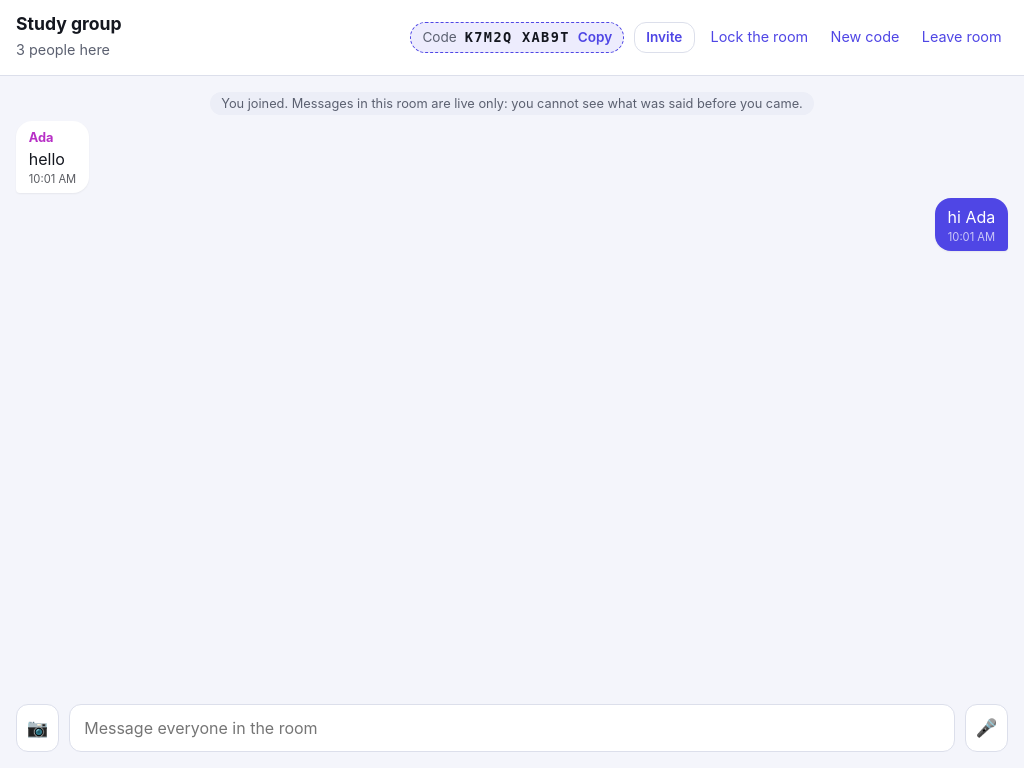
Test: ChatPanel › prefills a whisper from the member list
Click the button "3 people here" at (66, 50), box [16,37,116,64]
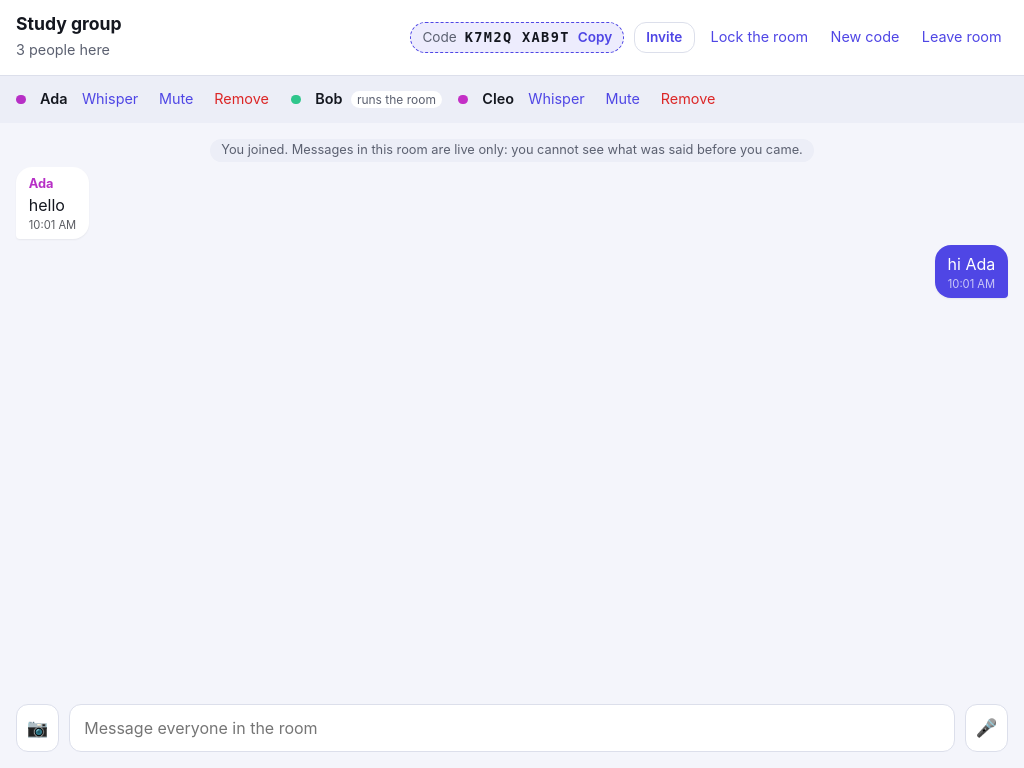
Click the 1st button "Whisper" at (110, 99), box [76,86,145,113]
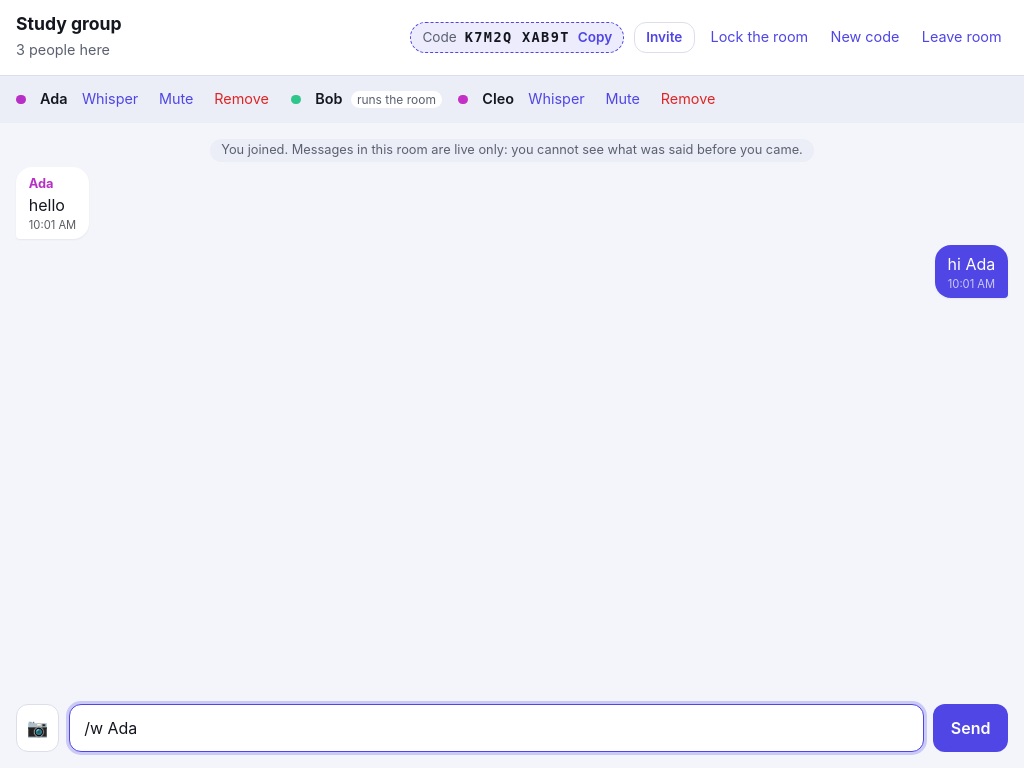
Expected: the dropdown named "Message" holds "/w Ada ", [69,704,924,752]
